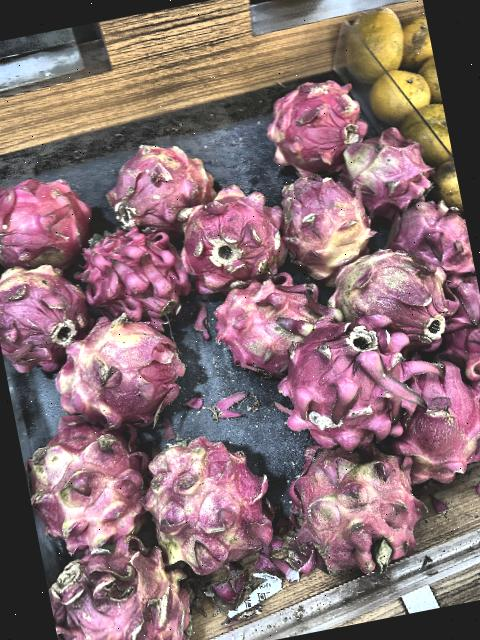buah-naga-belum-matang: (269, 416, 438, 590), (132, 410, 286, 580), (21, 408, 154, 558), (49, 306, 196, 419), (42, 531, 194, 640), (326, 238, 447, 358), (174, 182, 290, 290), (214, 261, 324, 368), (266, 164, 371, 276), (0, 244, 89, 369), (106, 138, 219, 236), (342, 123, 441, 210), (392, 190, 474, 278)
buah-naga-matang: (272, 303, 422, 444), (73, 210, 194, 322), (387, 346, 480, 490), (0, 176, 96, 272), (268, 78, 368, 170)
